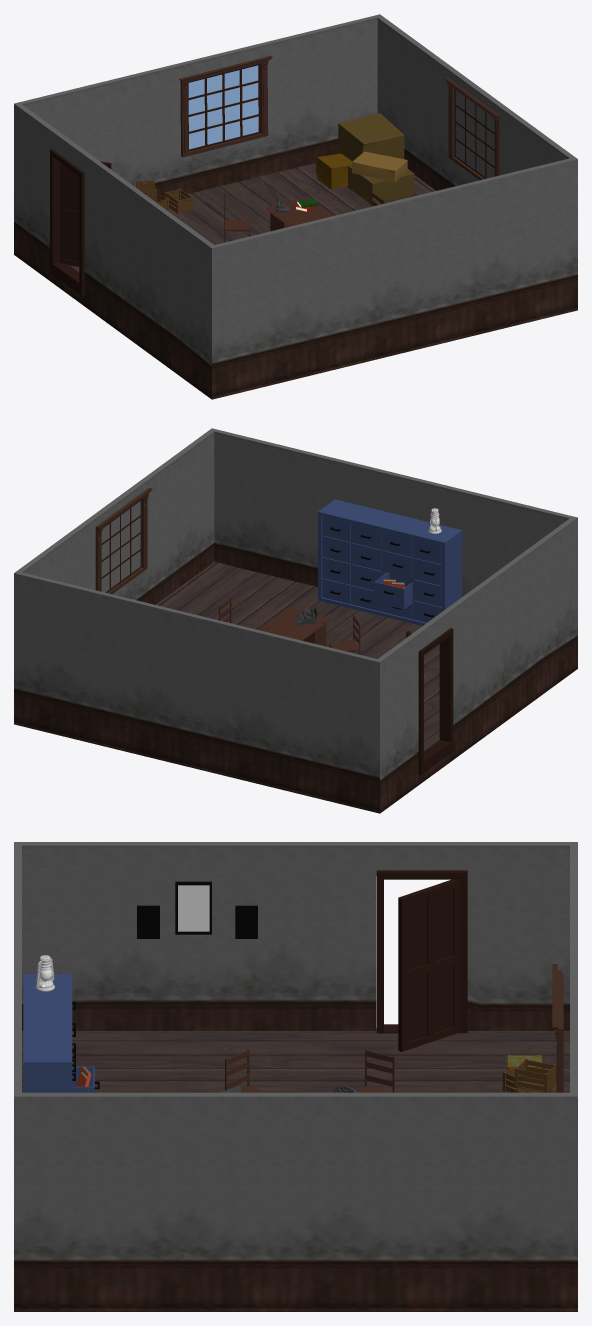
The model's file is Office_Room.fbx.
3 renders of one model, top to bottom at view 1: azimuth 30°, elevation 25°; view 2: azimuth 150°, elevation 25°; view 3: azimuth 270°, elevation 25°, orthographic. The views are drawn at different scales.
Parts seen in each view (by area): view 1: Cube.001, wind_low.004, Cube.026, cardboar_box_001.001, wind_low.005, Cube.027, cardboar_box_002.001, cardboar_box_004.001, cardboar_box_003.001, pCube2.001, pasted__Crate6.002; view 2: Cube.001, pCube8.001, Cube.026, wind_low.005, pCube2.001, pCube9.001; view 3: Cube.001, Cube.027, pCube8.001, Cube.026, polySurface6.001, wind_low.004, pasted__pasted__Crate6.001, pasted__pasted__group24_pasted__pCube4.001, polySurface7.002, polySurface7.003, pasted__group24_pasted__pCube4.001.
Boxes of the visible parts, bbox=[...] form: Cube.001: bbox=[14, 14, 577, 399]; wind_low.004: bbox=[179, 55, 272, 157]; Cube.026: bbox=[50, 149, 84, 296]; cardboar_box_001.001: bbox=[338, 113, 404, 161]; wind_low.005: bbox=[444, 77, 500, 180]; Cube.027: bbox=[60, 161, 111, 266]; cardboar_box_002.001: bbox=[348, 156, 414, 204]; cardboar_box_004.001: bbox=[352, 151, 407, 181]; cardboar_box_003.001: bbox=[316, 153, 352, 189]; pCube2.001: bbox=[266, 197, 333, 226]; pasted__Crate6.002: bbox=[164, 188, 193, 214]; Cube.001: bbox=[14, 428, 577, 813]; pCube8.001: bbox=[318, 499, 462, 625]; Cube.026: bbox=[418, 628, 453, 775]; wind_low.005: bbox=[95, 487, 152, 594]; pCube2.001: bbox=[258, 607, 330, 640]; pCube9.001: bbox=[374, 572, 412, 609]; Cube.001: bbox=[14, 842, 577, 1311]; Cube.027: bbox=[398, 879, 460, 1051]; pCube8.001: bbox=[23, 974, 72, 1092]; Cube.026: bbox=[376, 870, 467, 1033]; polySurface6.001: bbox=[175, 881, 211, 934]; wind_low.004: bbox=[552, 964, 563, 1092]; pasted__pasted__Crate6.001: bbox=[515, 1058, 556, 1092]; pasted__pasted__group24_pasted__pCube4.001: bbox=[357, 1049, 394, 1092]; polySurface7.002: bbox=[137, 905, 159, 938]; polySurface7.003: bbox=[235, 905, 257, 938]; pasted__group24_pasted__pCube4.001: bbox=[225, 1049, 264, 1092].
Size of the model in its own units: 870 by 341 by 809.
